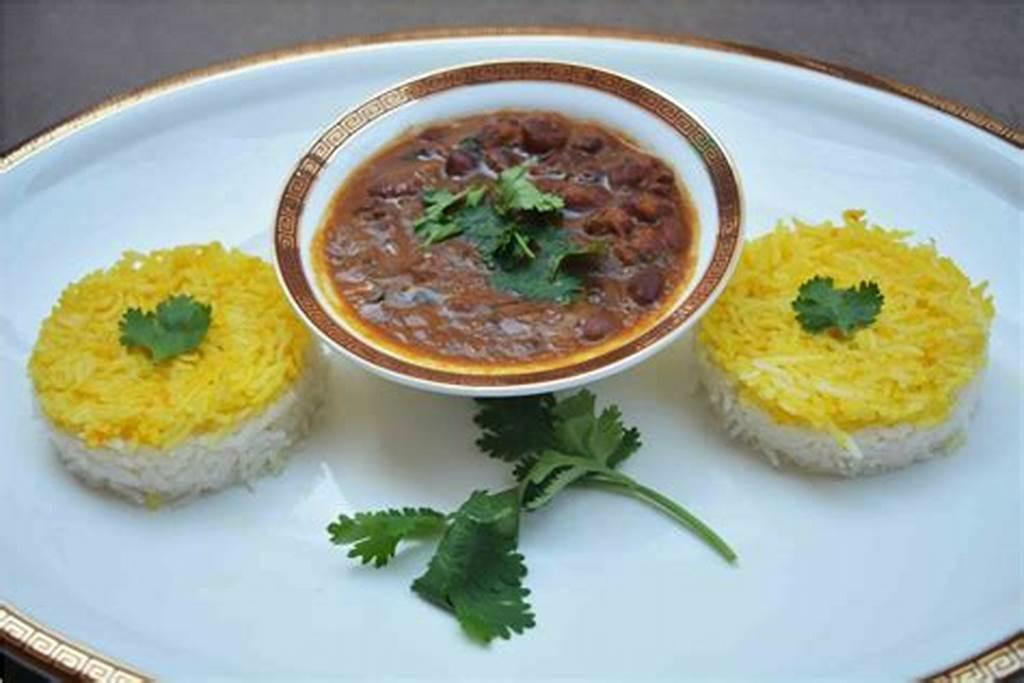RajmaCurry: (307, 107, 717, 357)
